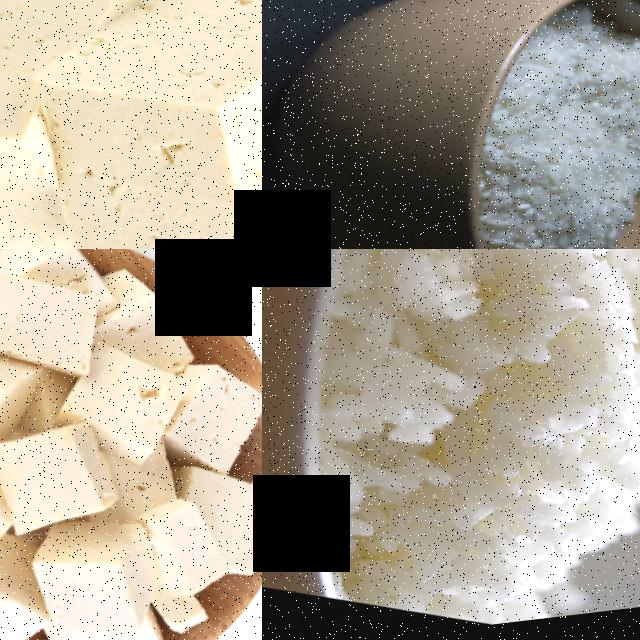tofu: (0, 0, 262, 249), (0, 0, 167, 249), (0, 401, 131, 561), (3, 513, 162, 640), (138, 357, 262, 495), (0, 259, 114, 400), (123, 497, 239, 621)
white rice: (267, 249, 640, 640), (427, 0, 640, 249)
